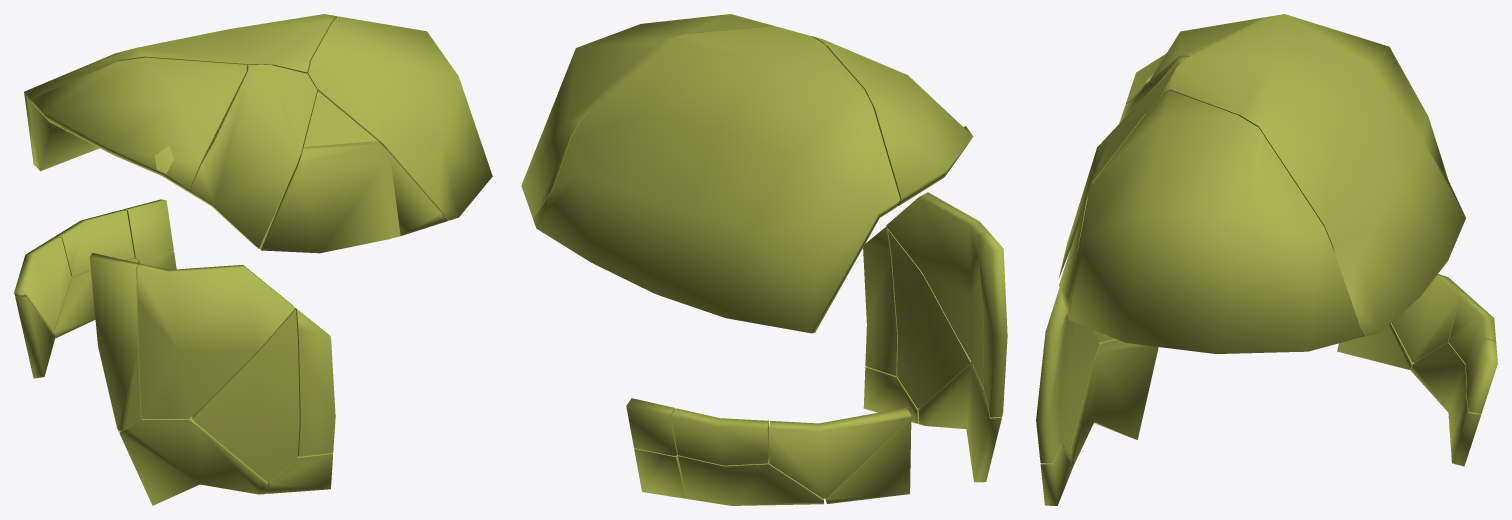
Rendered from Plaque_06.fbx.
3 renders of one model, left to right at view 1: azimuth 30°, elevation 25°; view 2: azimuth 150°, elevation 25°; view 3: azimuth 270°, elevation 25°, orthographic. The views are drawn at different scales.
Parts seen in each view (by area): view 1: tooth_d.042_cell.003, tooth_d.047_cell.005, tooth_d.042_cell.001, tooth_d.042_cell, tooth_d.042_cell.005, tooth_d.047_cell.003, tooth_d.042_cell.004, tooth_d.047_cell.002, tooth_d.047_cell.004, tooth_d.042_cell.002, tooth_d.047_cell.001, tooth_d.052_cell.004 (+5 smaller); view 2: tooth_d.042_cell.004, tooth_d.042_cell.003, tooth_d.042_cell.001, tooth_d.047_cell.005, tooth_d.047_cell.003, tooth_d.052_cell.004, tooth_d.052_cell.003, tooth_d.052_cell.002, tooth_d.047_cell.002, tooth_d.047_cell.004, tooth_d.047_cell.001, tooth_d.052_cell.005 (+3 smaller); view 3: tooth_d.042_cell.003, tooth_d.042_cell.004, tooth_d.047_cell.002, tooth_d.052_cell.004, tooth_d.047_cell.001, tooth_d.047_cell.003, tooth_d.052_cell.003, tooth_d.042_cell.001, tooth_d.052_cell.002, tooth_d.052_cell.005, tooth_d.052_cell, tooth_d.042_cell.002 (+4 smaller).
Part boxes in pixels (box(x1,y1,x2,y2)): tooth_d.042_cell.003: box(308, 16, 492, 220); tooth_d.047_cell.005: box(137, 264, 295, 418); tooth_d.042_cell.001: box(31, 57, 246, 189); tooth_d.042_cell: box(185, 64, 317, 247); tooth_d.042_cell.005: box(261, 144, 390, 253); tooth_d.047_cell.003: box(192, 309, 299, 482); tooth_d.042_cell.004: box(24, 14, 336, 171); tooth_d.047_cell.002: box(119, 416, 268, 505); tooth_d.047_cell.004: box(89, 253, 141, 431); tooth_d.042_cell.002: box(258, 91, 447, 249); tooth_d.047_cell.001: box(295, 308, 335, 456); tooth_d.052_cell.004: box(14, 237, 71, 331); tooth_d.042_cell.004: box(533, 26, 900, 333); tooth_d.042_cell.003: box(521, 14, 774, 218); tooth_d.042_cell.001: box(826, 44, 973, 205); tooth_d.047_cell.005: box(886, 192, 989, 388); tooth_d.047_cell.003: box(888, 229, 972, 408); tooth_d.052_cell.004: box(769, 407, 911, 498); tooth_d.052_cell.003: box(678, 455, 823, 505); tooth_d.052_cell.002: box(671, 408, 769, 465); tooth_d.047_cell.002: box(918, 364, 1001, 482); tooth_d.047_cell.004: box(977, 232, 1007, 417); tooth_d.047_cell.001: box(863, 226, 897, 375); tooth_d.052_cell.005: box(825, 419, 911, 503); tooth_d.042_cell.003: box(1067, 90, 1363, 353); tooth_d.042_cell.004: box(1162, 14, 1465, 337); tooth_d.047_cell.002: box(1070, 339, 1158, 468); tooth_d.052_cell.004: box(1391, 274, 1470, 362); tooth_d.047_cell.001: box(1036, 288, 1067, 463); tooth_d.047_cell.003: box(1058, 316, 1099, 455); tooth_d.052_cell.003: box(1411, 342, 1466, 437); tooth_d.042_cell.001: box(1126, 17, 1265, 103); tooth_d.052_cell.002: box(1448, 297, 1495, 385); tooth_d.052_cell.005: box(1337, 323, 1414, 370); tooth_d.052_cell: box(1466, 338, 1497, 413); tooth_d.042_cell.002: box(1059, 113, 1145, 312).
Size of the model in its own units: 80.95 by 76.33 by 70.49.
